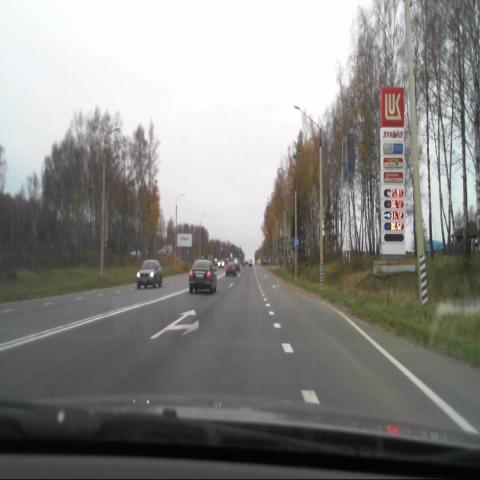6_4: (292, 237, 300, 249)
